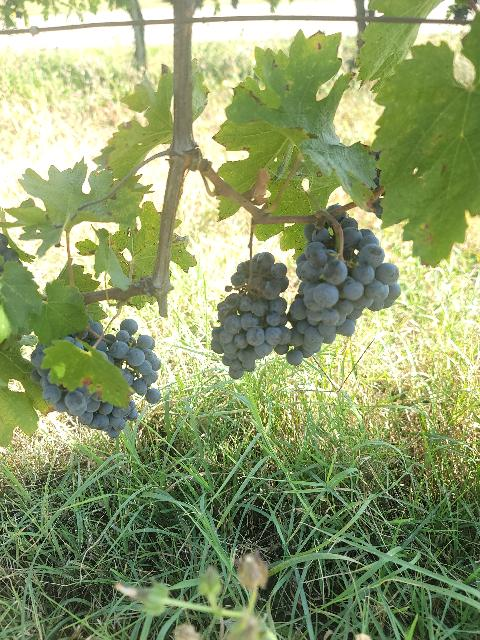grapes: (286, 211, 401, 365), (30, 336, 139, 438), (211, 252, 290, 379), (110, 319, 162, 404)
